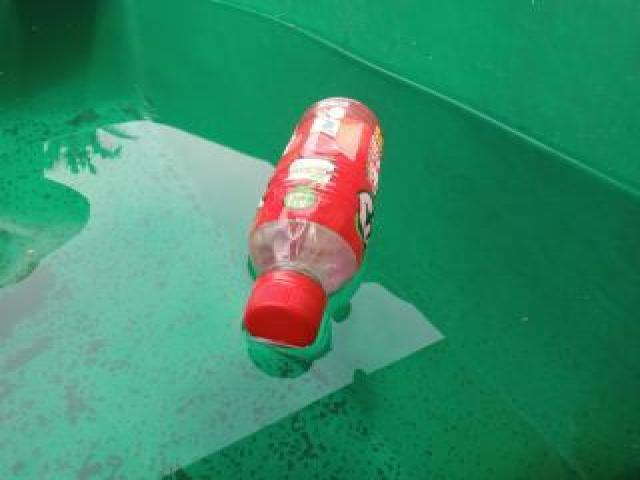Bottle: (234, 92, 390, 352)
